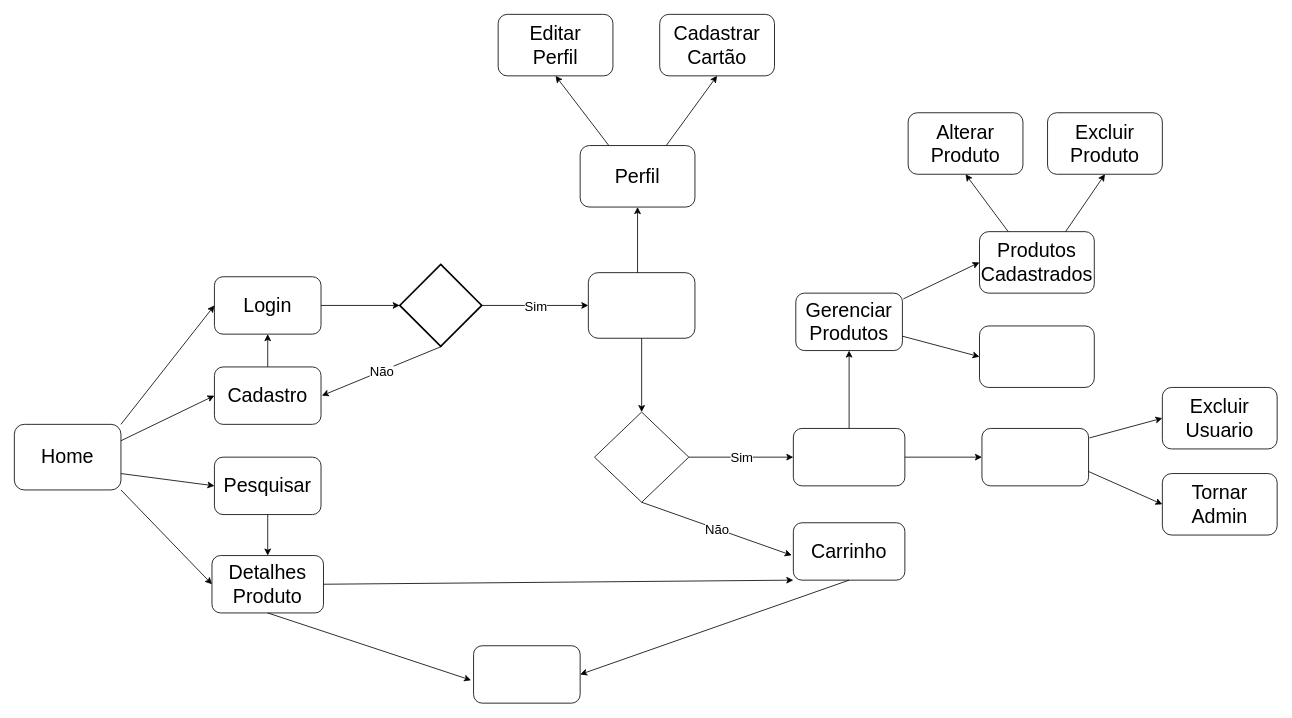
Image size: 1292x718. Some labels were removed from this diagram. The centre of each missing label's shape, as x and y in pixels:
Admin?: the point at 641,456
Cadastrado ?: the point at 440,305
Cadastrar Produto: the point at 1036,356
Finalizar Compra: the point at 526,674
Gerenciar: the point at 849,457
Gerenciar Usuarios: the point at 1035,457
Home (Logado): the point at 641,305
